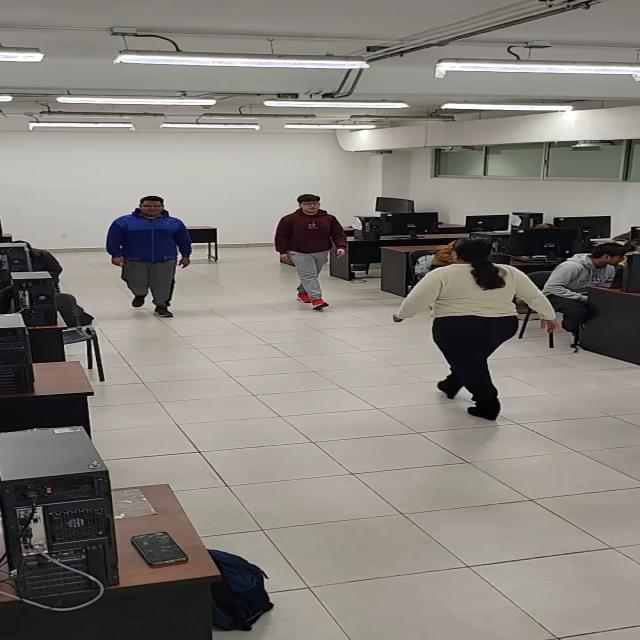Persona: (426, 238, 556, 421), (113, 195, 187, 320), (280, 194, 348, 309)
